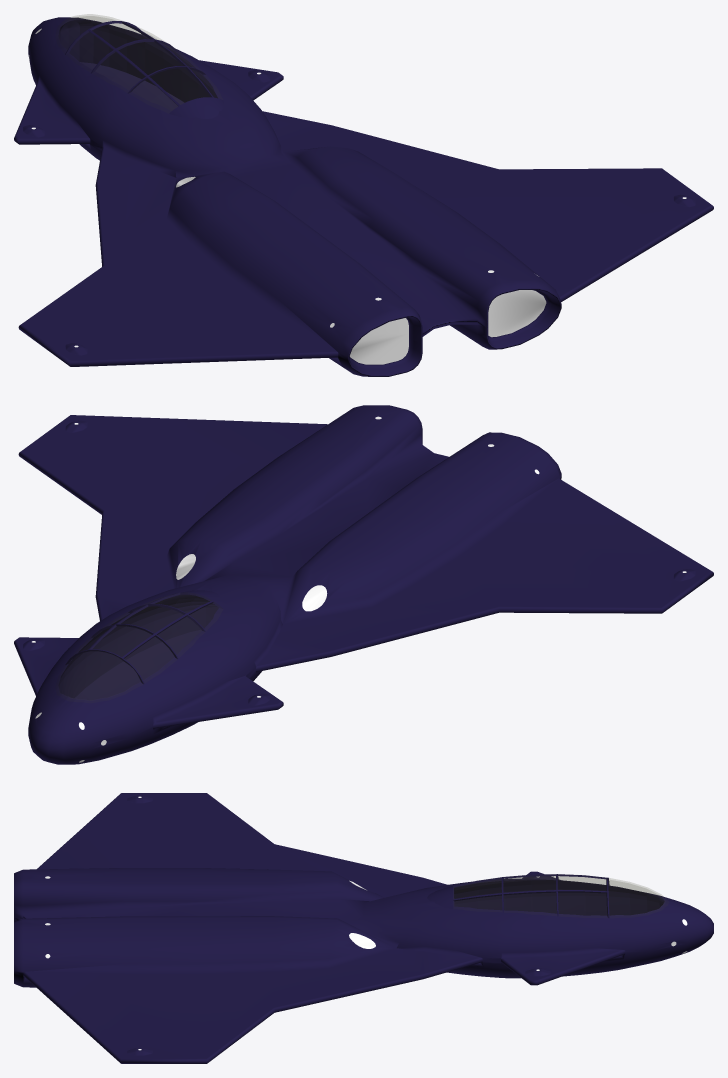
Rendered from Ship Outline.fbx.
3 views of the same model, one above another, from view 1: azimuth 30°, elevation 25°; view 2: azimuth 150°, elevation 25°; view 3: azimuth 270°, elevation 25° (orthographic). The views are drawn at different scales.
Parts seen in each view (by area): view 1: Ship_Body, Ship_cockpit; view 2: Ship_Body, Ship_cockpit; view 3: Ship_Body, Ship_cockpit.
Part boxes in pixels (left/top/right/bottom): Ship_Body: left=14, top=17, right=713, bottom=376; Ship_cockpit: left=58, top=14, right=223, bottom=118; Ship_Body: left=14, top=405, right=713, bottom=764; Ship_cockpit: left=58, top=590, right=224, bottom=700; Ship_Body: left=14, top=793, right=713, bottom=1063; Ship_cockpit: left=427, top=874, right=665, bottom=918.
Bounding box in the file's own units: 1716 × 259 × 1899.
